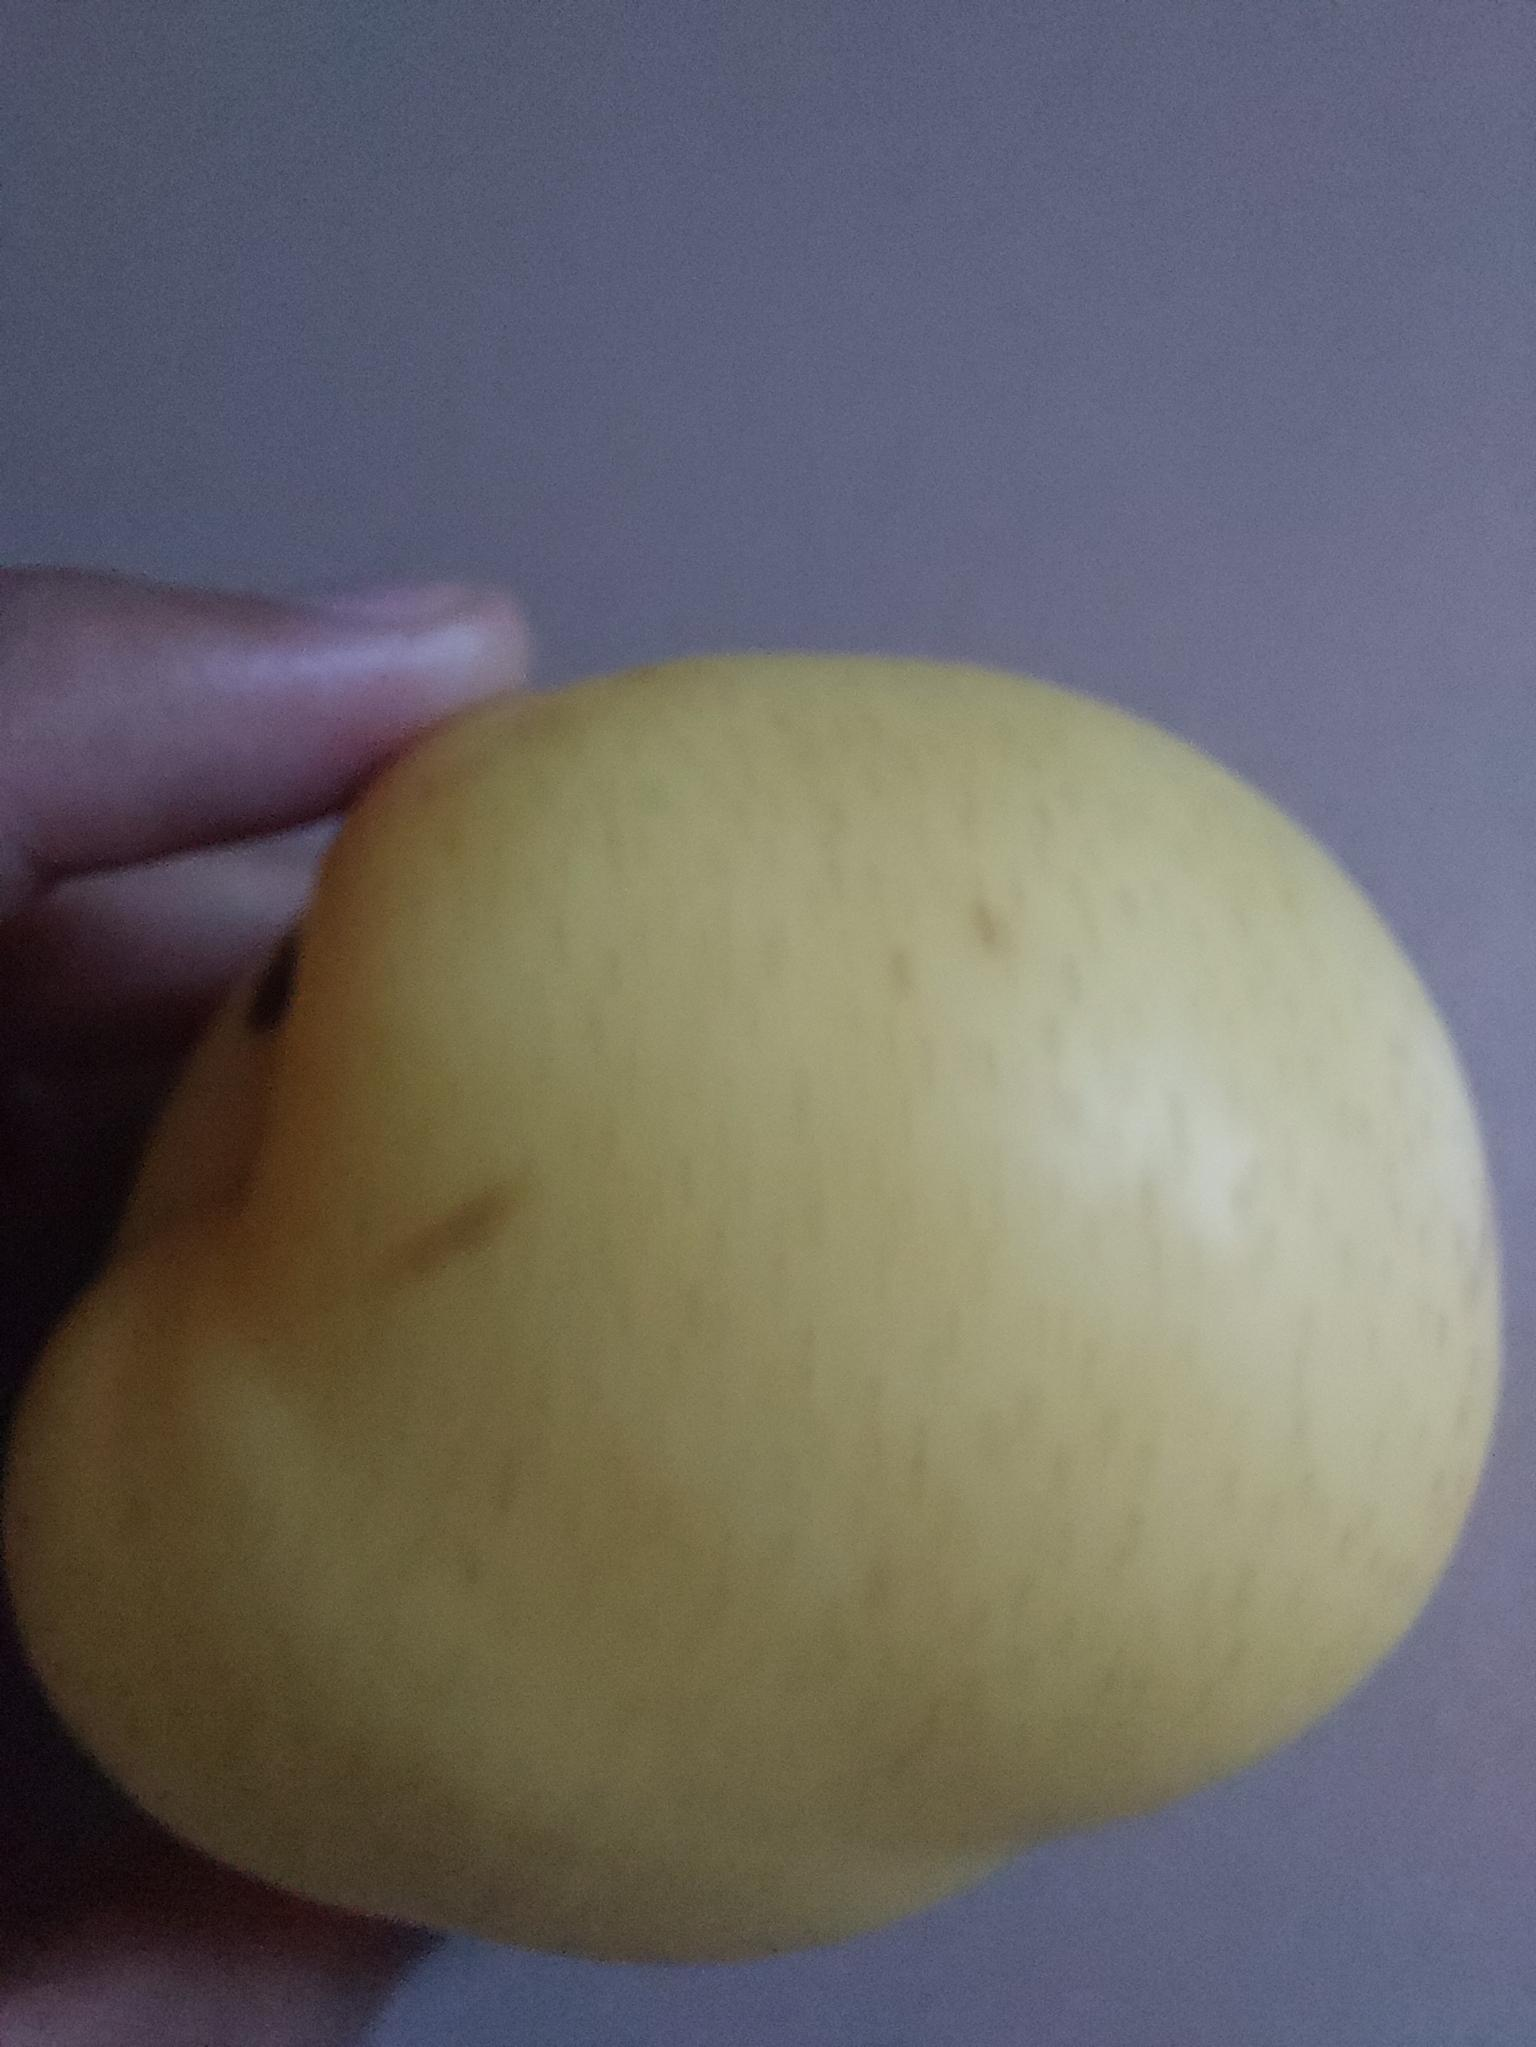Good Pear: (0, 634, 1534, 1992)
